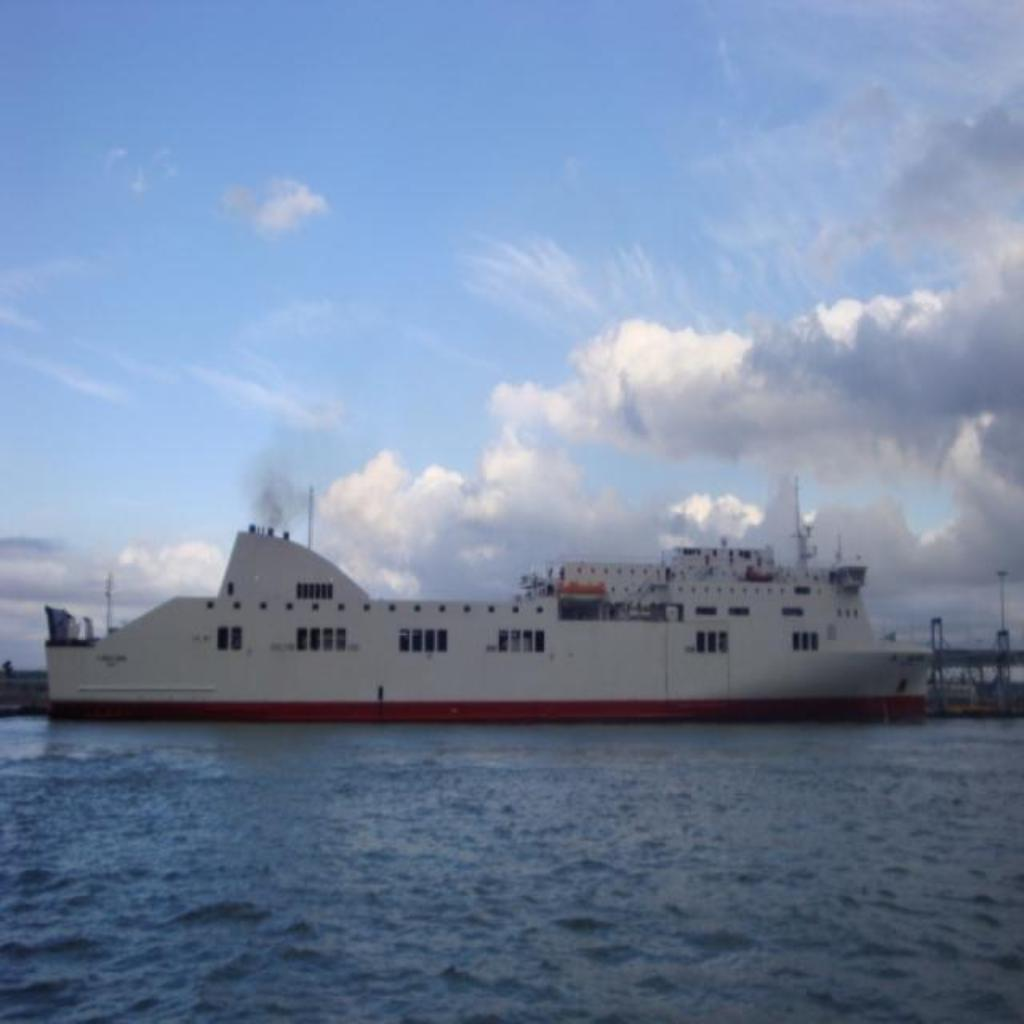PassengerShip: (30, 455, 934, 725)
